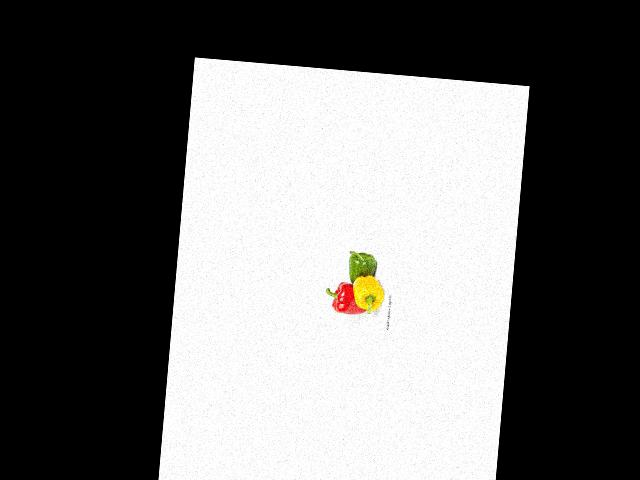bell_pepper: (323, 280, 366, 318)
